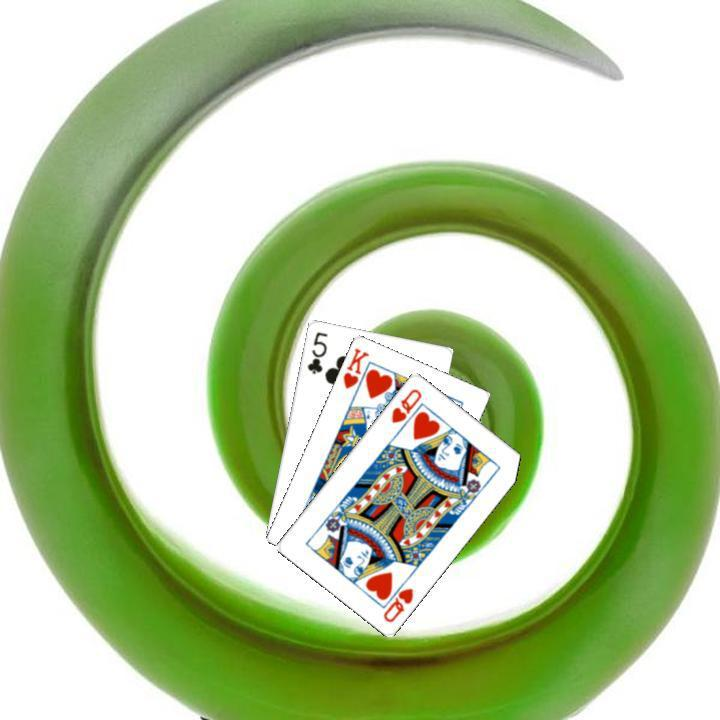5: (303, 327, 329, 375)
K: (338, 343, 371, 391)
Q: (377, 573, 415, 624), (387, 384, 424, 425)
